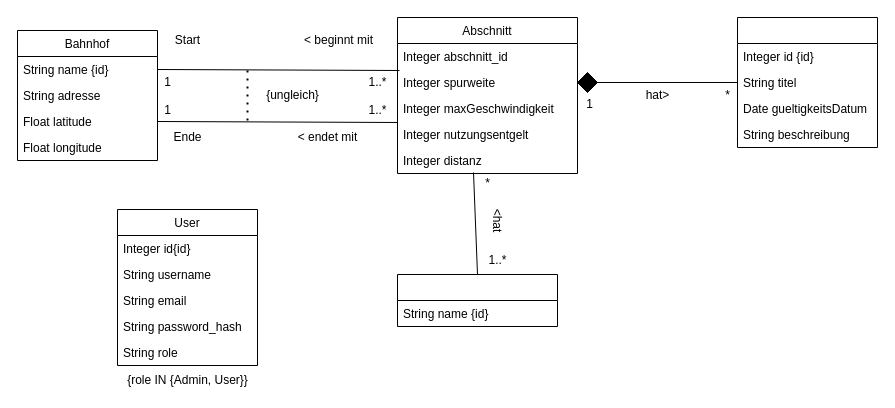
Some shapes in this 895 by 408 pixel diagram are drawn without their labels. The box of each missing label's shape, as (x1, y1, x2, y2) in pixels:
Strecke: (396, 274, 558, 326)
Warnung: (736, 16, 878, 148)
